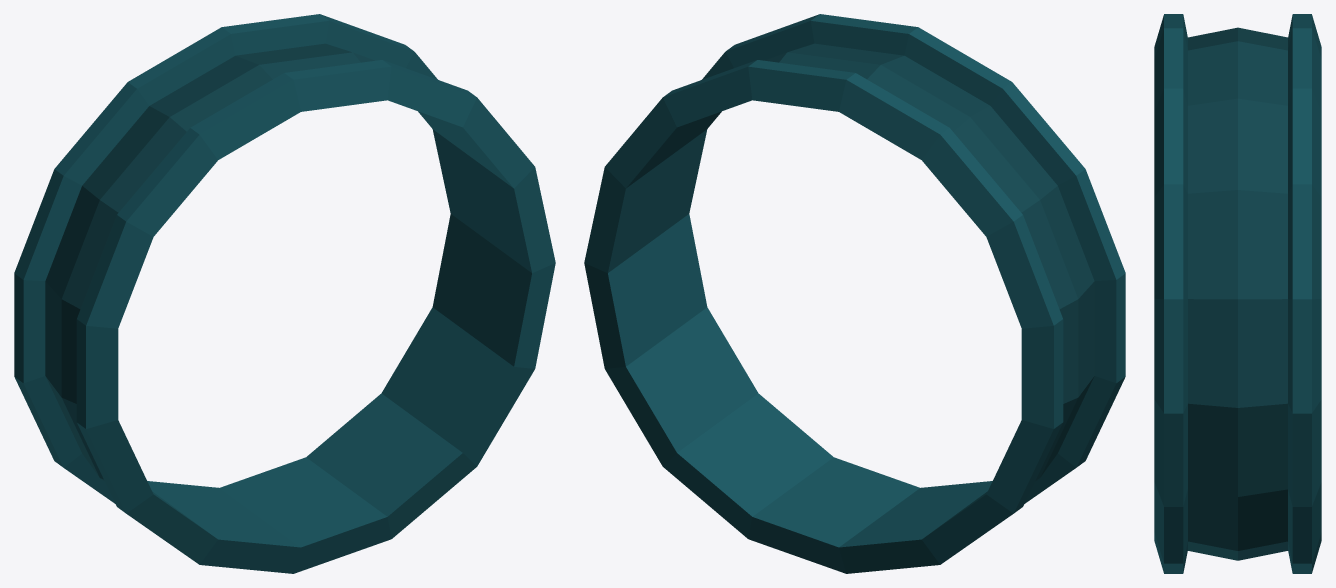
The model's file is Ring7.glb.
3 views of the same model, side by side, from view 1: azimuth 30°, elevation 25°; view 2: azimuth 150°, elevation 25°; view 3: azimuth 270°, elevation 25° (orthographic). The views are drawn at different scales.
Parts seen in each view (by area): view 1: Ring7; view 2: Ring7; view 3: Ring7.
Boxes of the visible parts, x1=… form: Ring7: x1=14, y1=14, x2=555, y2=573; Ring7: x1=584, y1=14, x2=1125, y2=573; Ring7: x1=1154, y1=14, x2=1321, y2=573.
Size of the model in its own units: 0.2577 by 0.2591 by 0.0774.
